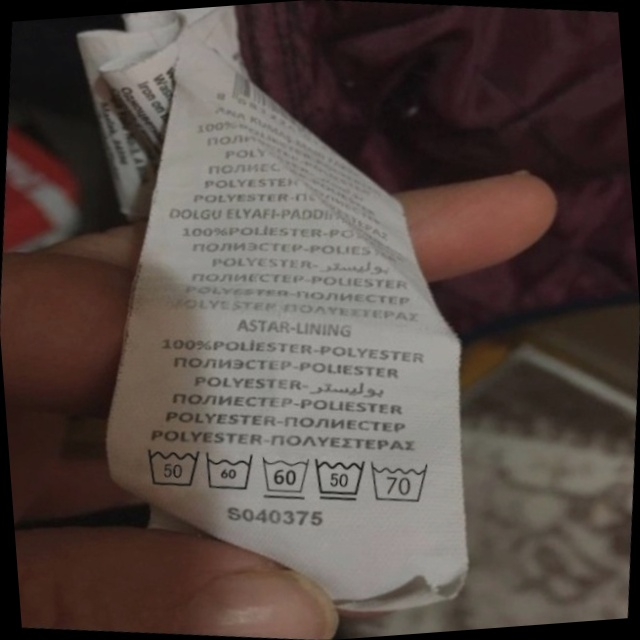50C: (135, 434, 209, 499), (306, 448, 374, 511)
60C: (254, 446, 319, 507), (198, 442, 263, 501)
70C: (365, 452, 440, 512)
